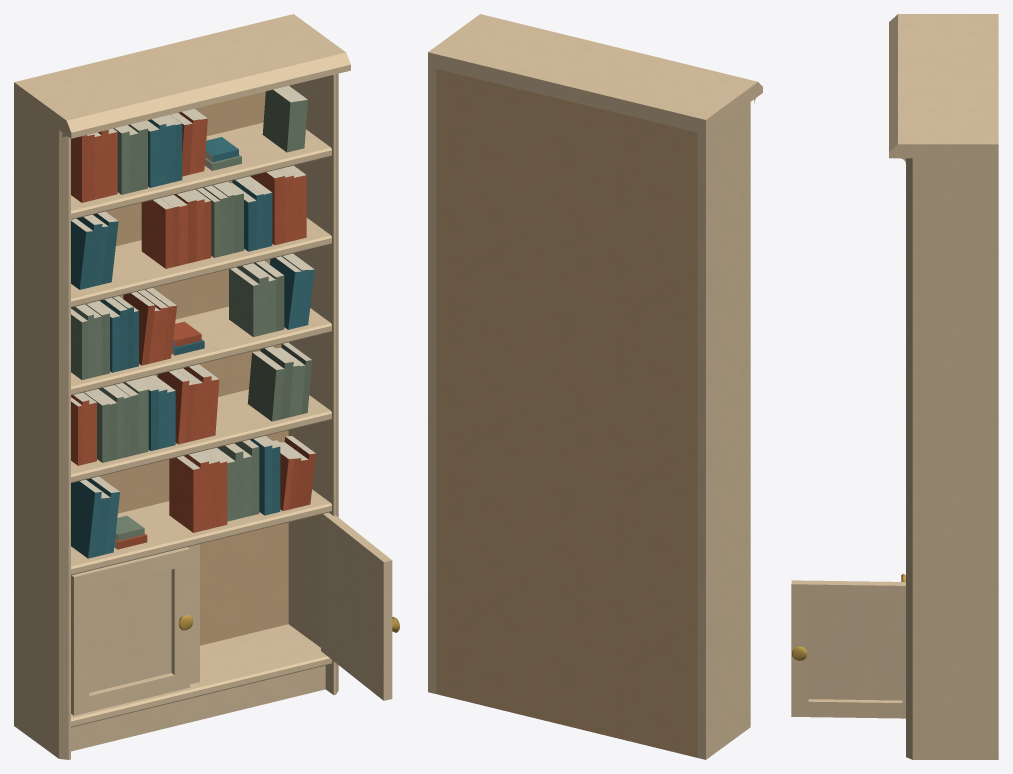
Rendered from bookcase.glb.
3 renders of one model, left to right at view 1: azimuth 30°, elevation 25°; view 2: azimuth 150°, elevation 25°; view 3: azimuth 270°, elevation 25°, orthographic. The views are drawn at different scales.
Visible parts, largest first — view 1: case-carcass, books-bookRust, books-bookSage, case-interior, books-bookTeal, door-l-carcass, door-r-carcass, books-pages; view 2: case-interior, case-carcass; view 3: case-carcass, door-r-carcass.
Boxes of the visible parts, box(x1,y1,x2,y2) form: case-carcass: box(14, 14, 350, 759); books-bookRust: box(71, 112, 315, 549); books-bookSage: box(71, 89, 312, 540); case-interior: box(85, 91, 288, 645); books-bookTeal: box(71, 119, 314, 558); door-l-carcass: box(71, 547, 189, 715); door-r-carcass: box(321, 512, 392, 700); books-pages: box(71, 86, 315, 548); case-interior: box(436, 69, 697, 757); case-carcass: box(428, 14, 762, 759); case-carcass: box(889, 14, 998, 759); door-r-carcass: box(791, 580, 905, 718).
Size of the model in its own units: 1 by 2.2 by 0.6708.
Materials: 10 (10 with a texture image).
